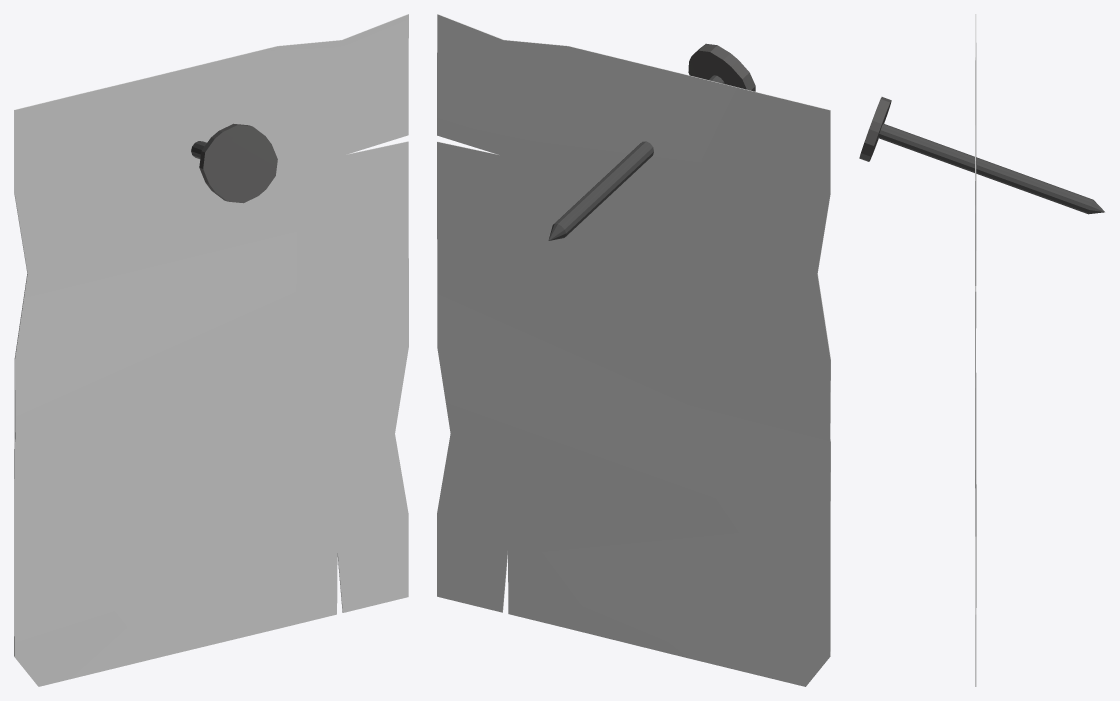
Rendered from Note_A4_Pinned.fbx.
3 renders of one model, left to right at view 1: azimuth 30°, elevation 25°; view 2: azimuth 150°, elevation 25°; view 3: azimuth 270°, elevation 25°, orthographic. The views are drawn at different scales.
Parts seen in each view (by area): view 1: Note A4 pinned; view 2: Note A4 pinned; view 3: Note A4 pinned.
Part boxes in pixels (x1,y1,x2,y2): Note A4 pinned: (14, 14, 408, 686); Note A4 pinned: (437, 14, 830, 686); Note A4 pinned: (859, 14, 1104, 686).
Bounding box in the file's own units: 21 × 29.7 × 13.08.
